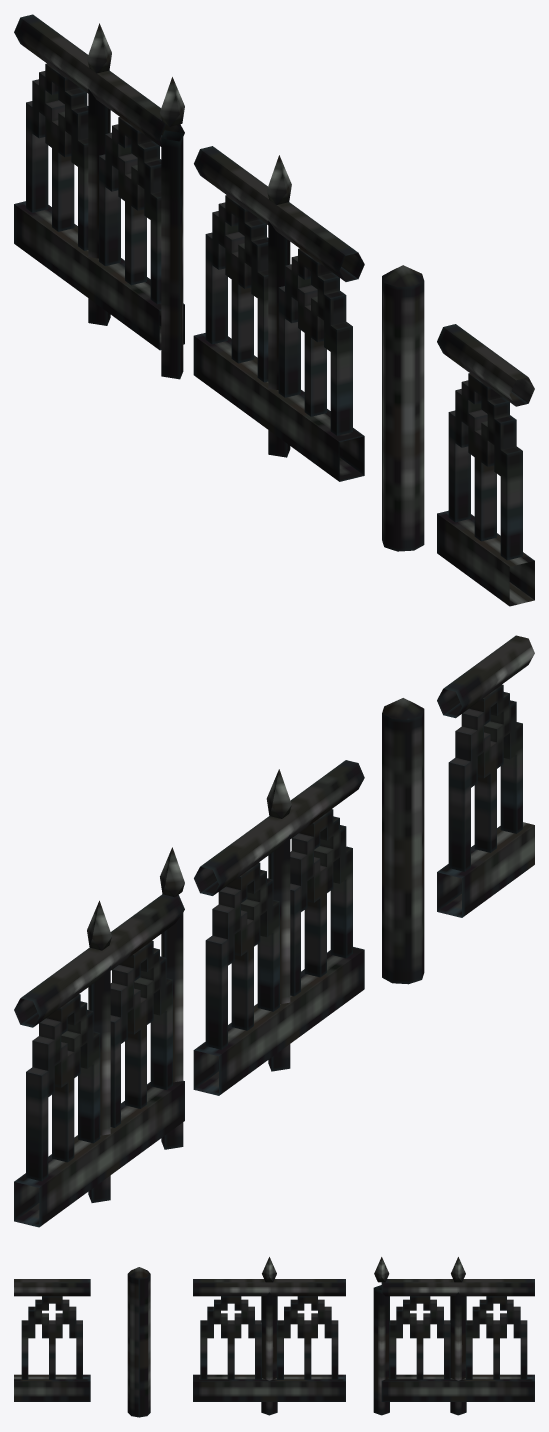
File: EnvMdrMD_Daiseidou_A_Fence_B_End_A.FBX
3 renders of one model, top to bottom at view 1: azimuth 30°, elevation 25°; view 2: azimuth 150°, elevation 25°; view 3: azimuth 270°, elevation 25°, orthographic. The views are drawn at different scales.
Visible parts, largest first — view 1: EnvMdrMD_Daiseidou_A_Fence_B_Start_A, EnvMdrMD_Daiseidou_A_Fence_B_End_A, EnvMdrMD_Daiseidou_A_Fence_B_End_A_Harf, EnvMdrMD_Daiseidou_A_Fence_B_Post_A; view 2: EnvMdrMD_Daiseidou_A_Fence_B_Start_A, EnvMdrMD_Daiseidou_A_Fence_B_End_A, EnvMdrMD_Daiseidou_A_Fence_B_End_A_Harf, EnvMdrMD_Daiseidou_A_Fence_B_Post_A; view 3: EnvMdrMD_Daiseidou_A_Fence_B_Start_A, EnvMdrMD_Daiseidou_A_Fence_B_End_A, EnvMdrMD_Daiseidou_A_Fence_B_End_A_Harf, EnvMdrMD_Daiseidou_A_Fence_B_Post_A.
Boxes of the visible parts, <box> form: EnvMdrMD_Daiseidou_A_Fence_B_Start_A: <box>14,14,184,379</box>; EnvMdrMD_Daiseidou_A_Fence_B_End_A: <box>193,146,364,481</box>; EnvMdrMD_Daiseidou_A_Fence_B_End_A_Harf: <box>437,324,534,606</box>; EnvMdrMD_Daiseidou_A_Fence_B_Post_A: <box>382,265,424,551</box>; EnvMdrMD_Daiseidou_A_Fence_B_Start_A: <box>14,847,184,1227</box>; EnvMdrMD_Daiseidou_A_Fence_B_End_A: <box>193,760,364,1095</box>; EnvMdrMD_Daiseidou_A_Fence_B_End_A_Harf: <box>437,635,534,917</box>; EnvMdrMD_Daiseidou_A_Fence_B_Post_A: <box>382,698,424,984</box>; EnvMdrMD_Daiseidou_A_Fence_B_Start_A: <box>373,1257,534,1415</box>; EnvMdrMD_Daiseidou_A_Fence_B_End_A: <box>193,1257,345,1415</box>; EnvMdrMD_Daiseidou_A_Fence_B_End_A_Harf: <box>14,1279,90,1401</box>; EnvMdrMD_Daiseidou_A_Fence_B_Post_A: <box>127,1267,150,1417</box>.
Bounding box in the file's own units: 15 × 112 × 340.
Materials: 1 (1 with a texture image).
